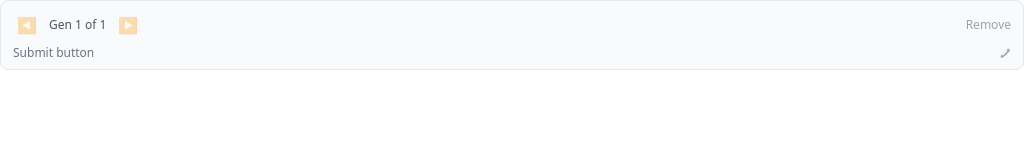
GenerationHistory › shows edit input when pencil icon is clicked
Step 1. Click the button named "Edit label" → x=1005, y=53, box [999, 47, 1011, 59]
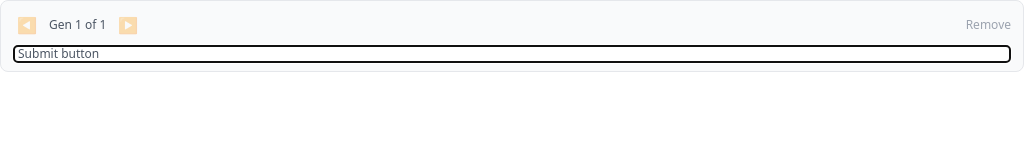
Now the field showing "Submit button" is shown, box [13, 45, 1011, 63]
